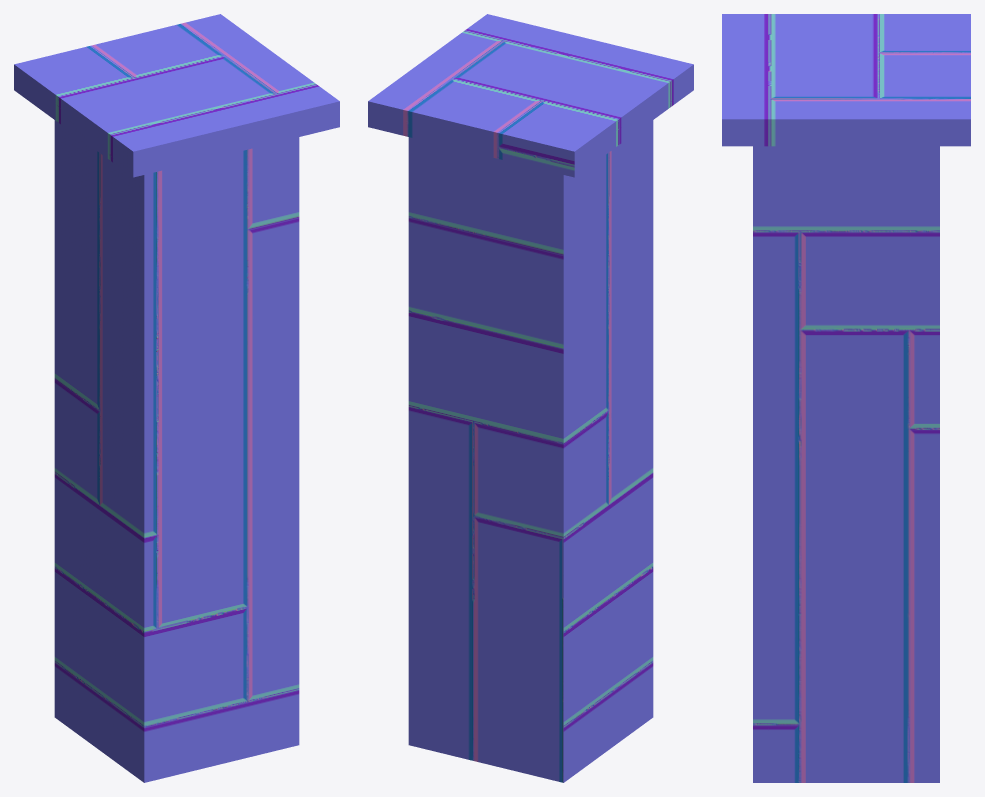
Rendered from Railing End Piece.fbx.
3 views of the same model, side by side, from view 1: azimuth 30°, elevation 25°; view 2: azimuth 150°, elevation 25°; view 3: azimuth 270°, elevation 25° (orthographic). The views are drawn at different scales.
Visible parts, largest first — view 1: Railing_End_Part; view 2: Railing_End_Part; view 3: Railing_End_Part.
Part boxes in pixels (<box>): Railing_End_Part: <box>14,14,339,782</box>; Railing_End_Part: <box>368,14,693,782</box>; Railing_End_Part: <box>722,14,970,782</box>.
Size of the model in its own units: 40 by 120 by 40.
